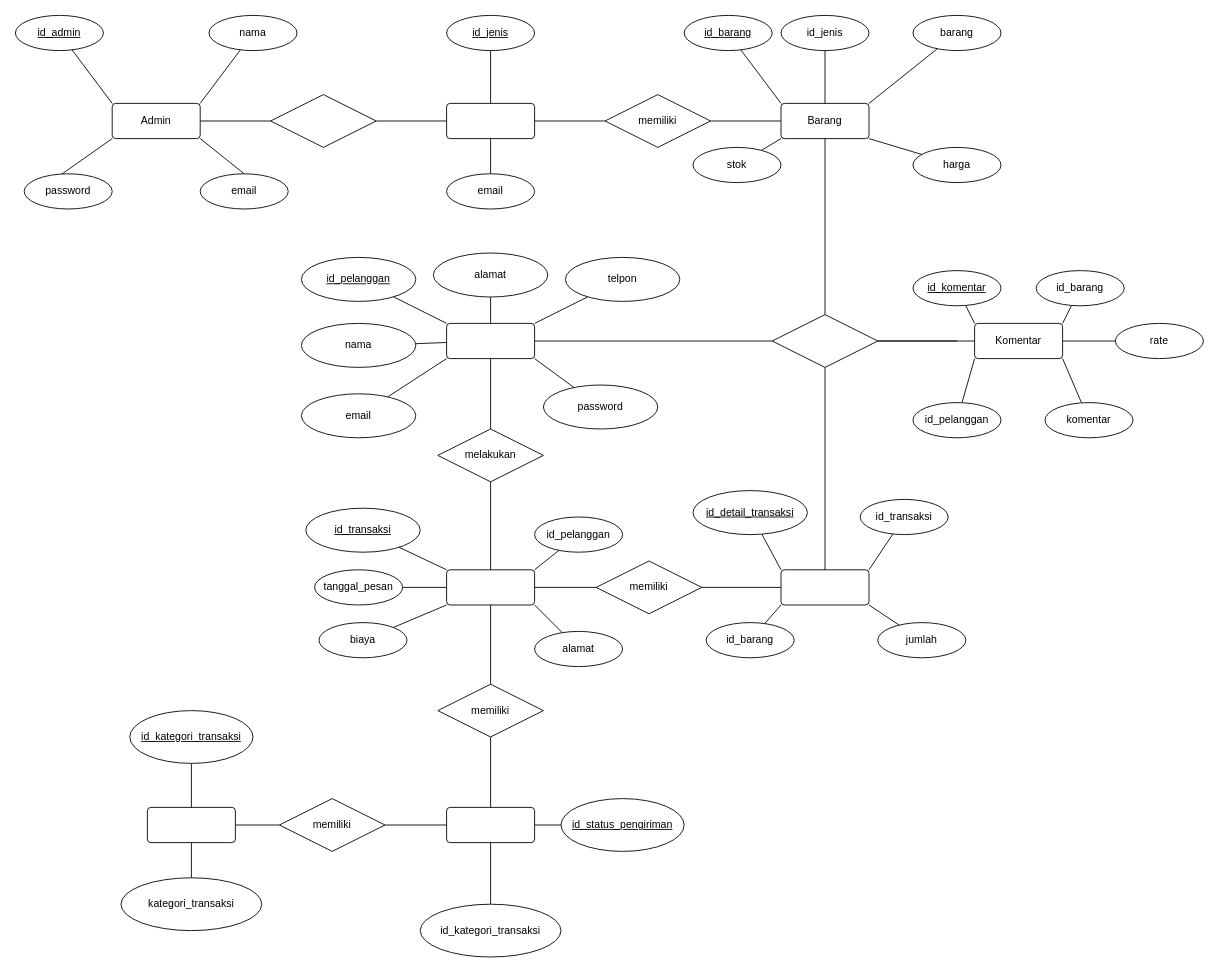
Some shapes in this 1219 by 972 pixel diagram are drawn without their labels. The shapes that lost their labels are listed below. From the top down, each one's centre as x and y in pixels, then its label:
(323,120): memasukan
(490,121): Jenis
(490,341): Pelanggan
(824,340): memilki
(490,587): Transaksi
(824,587): Detail Transaksi
(191,825): kategori transaksi
(490,825): status transaksi
